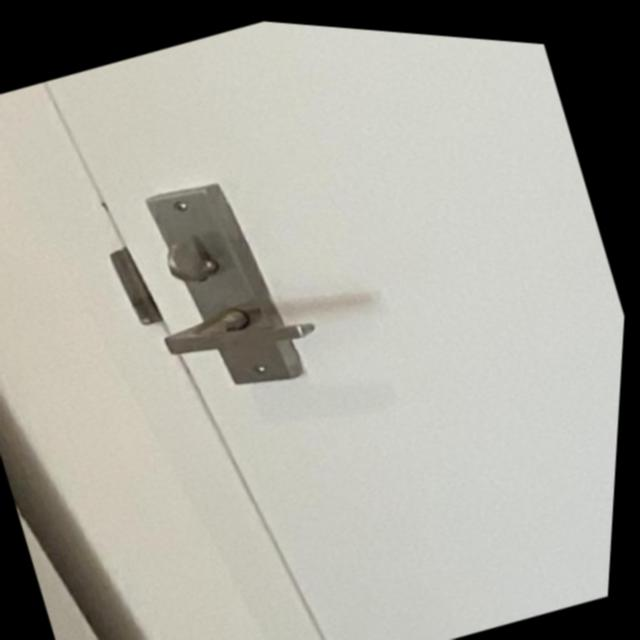door_handle: (135, 244, 357, 406)
